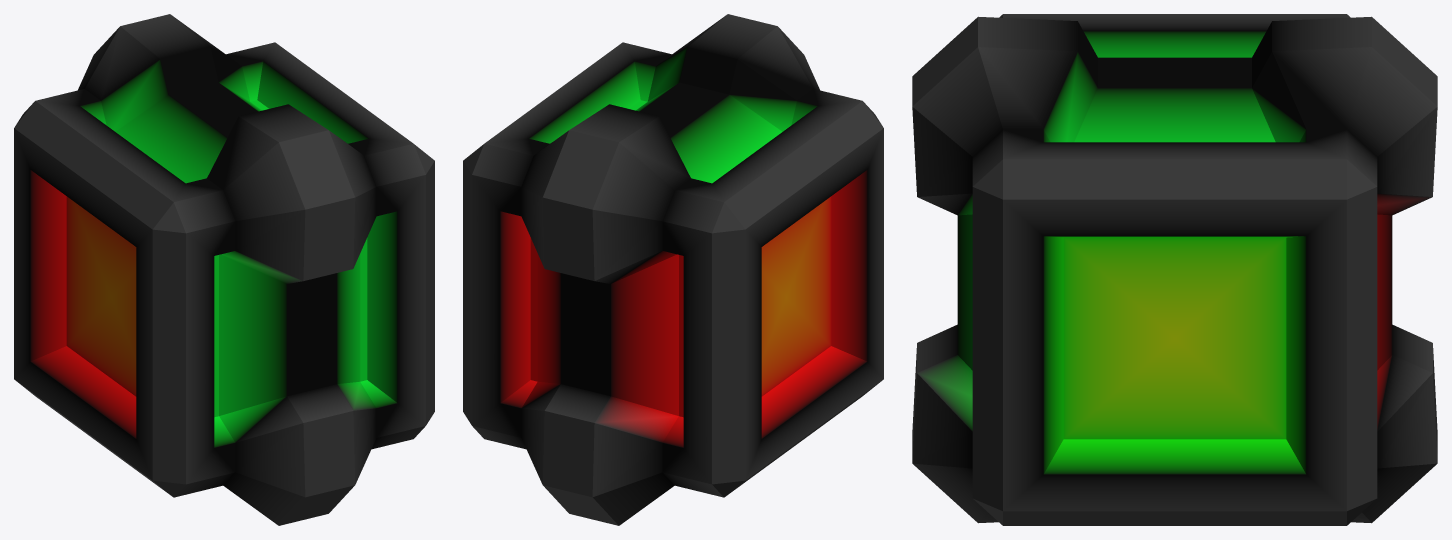
Rendered from SpaceCube02.FBX.
3 views of the same model, side by side, from view 1: azimuth 30°, elevation 25°; view 2: azimuth 150°, elevation 25°; view 3: azimuth 270°, elevation 25° (orthographic). The views are drawn at different scales.
Parts seen in each view (by area): view 1: SpaceCube02; view 2: SpaceCube02; view 3: SpaceCube02.
Part boxes in pixels (x1,y1,x2,y2): SpaceCube02: (14,14,434,525); SpaceCube02: (463,14,883,525); SpaceCube02: (912,14,1437,525).
Size of the model in its own units: 20 by 25.97 by 25.97.
